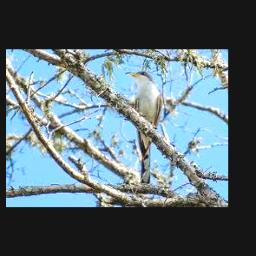Cuckoo: (127, 71, 163, 188)
